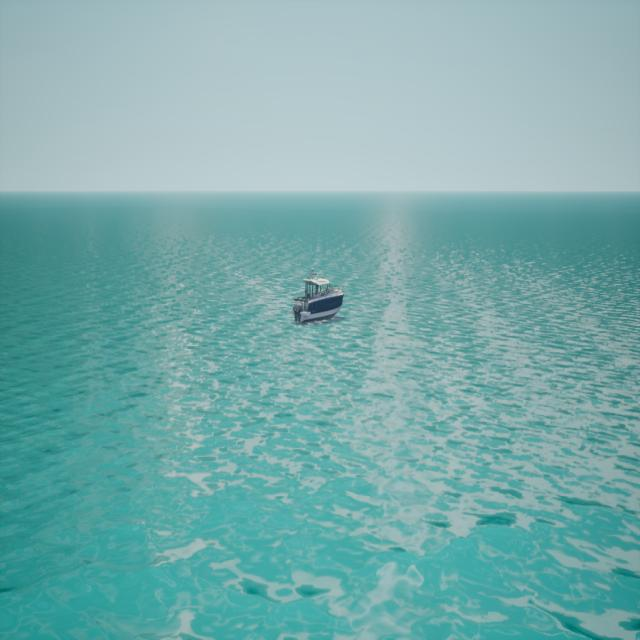ship: (292, 271, 345, 324)
